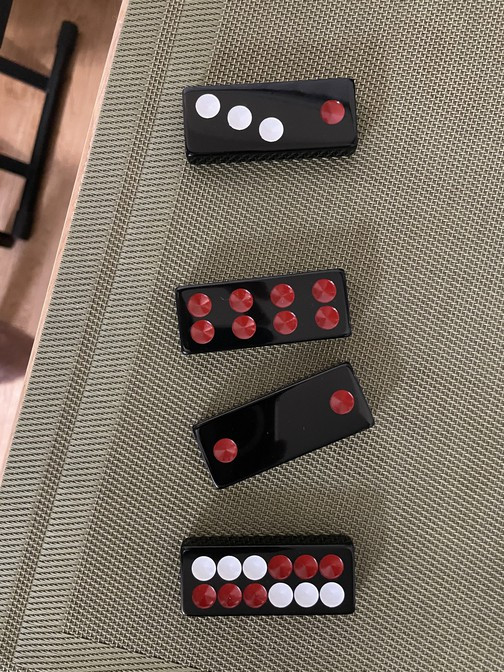earth: (190, 363, 372, 489)
goose: (182, 78, 361, 163)
heaven: (179, 535, 357, 618)
man: (175, 267, 353, 355)
